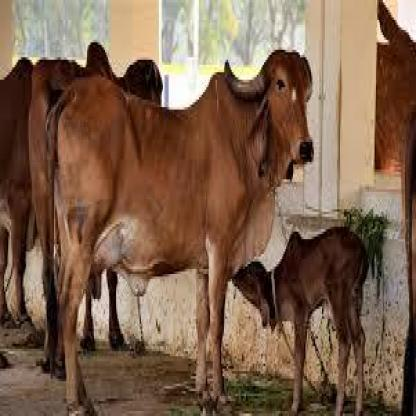cow: (48, 55, 312, 416), (235, 229, 368, 416)
